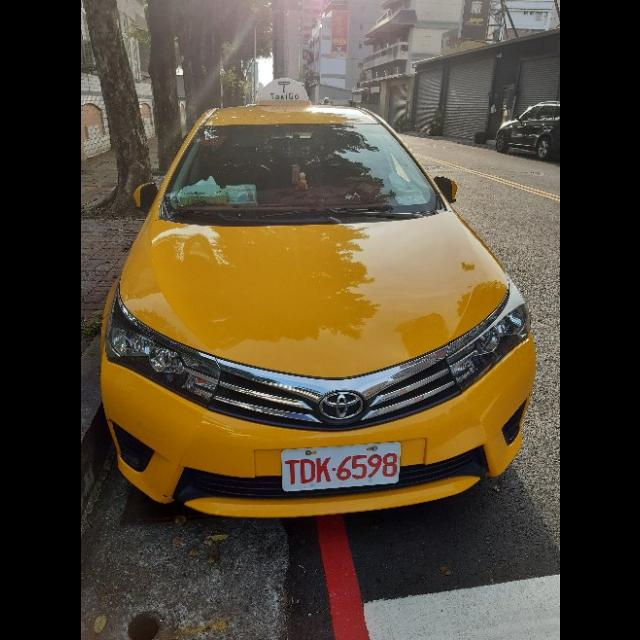plate: (281, 442, 400, 492)
